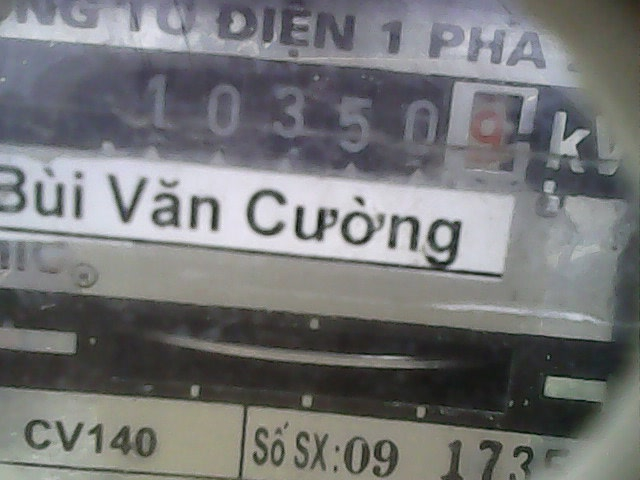phy_plate: (127, 51, 544, 190)
